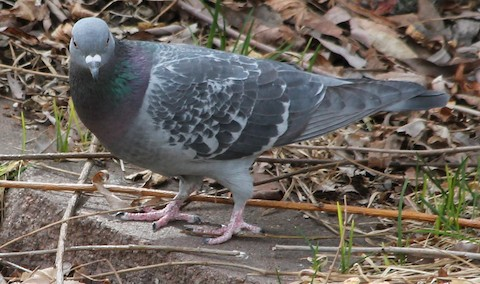pigeon: (64, 15, 455, 248)
